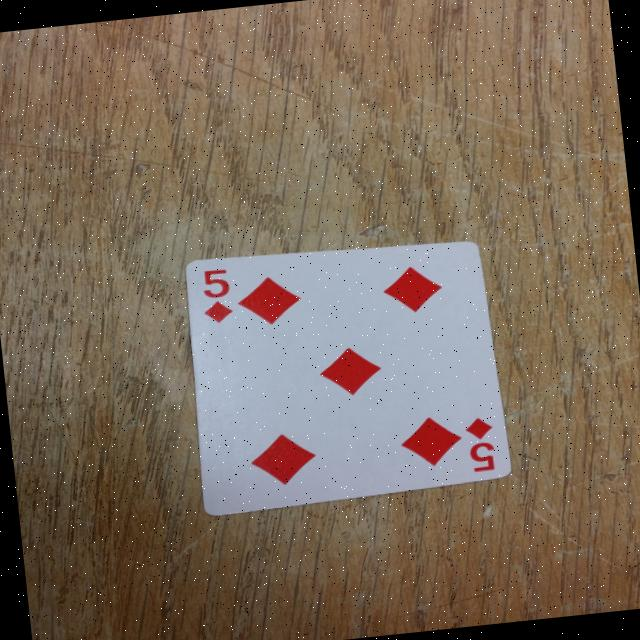5d: (439, 408, 512, 482), (188, 260, 256, 334)
